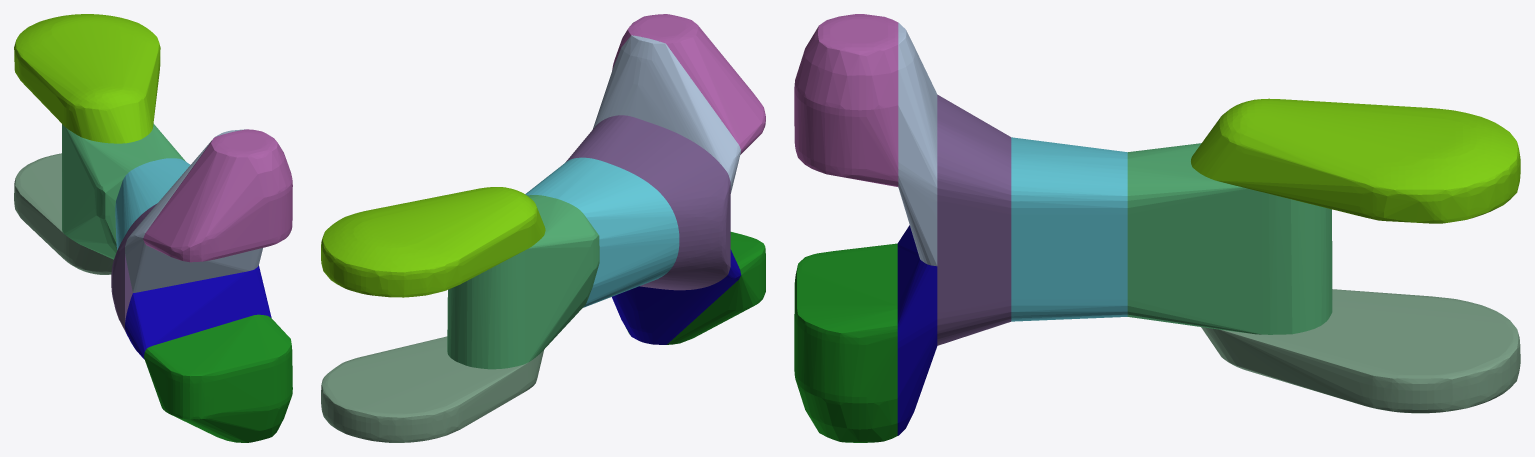
The model's file is torso_l3.obj.
The picture shows the model from 3 angles, left to right: view 1: azimuth 30°, elevation 25°; view 2: azimuth 150°, elevation 25°; view 3: azimuth 270°, elevation 25°; orthographic projection. The views are drawn at different scales.
Parts seen in each view (by area): view 1: geometry_4, geometry_8, geometry_7, geometry_3, geometry_5, geometry_0, geometry_6, geometry_2, geometry_1; view 2: geometry_4, geometry_3, geometry_0, geometry_1, geometry_2, geometry_6, geometry_7, geometry_5, geometry_8; view 3: geometry_4, geometry_3, geometry_0, geometry_2, geometry_8, geometry_1, geometry_7, geometry_6, geometry_5.
Boxes of the visible parts, x1=… form: geometry_4: x1=14, y1=14, x2=160, y2=143; geometry_8: x1=144, y1=314, x2=292, y2=442; geometry_7: x1=143, y1=129, x2=292, y2=262; geometry_3: x1=62, y1=123, x2=185, y2=259; geometry_5: x1=125, y1=265, x2=271, y2=359; geometry_0: x1=14, y1=153, x2=113, y2=274; geometry_6: x1=125, y1=129, x2=262, y2=292; geometry_2: x1=115, y1=158, x2=190, y2=249; geometry_1: x1=111, y1=203, x2=157, y2=333; geometry_4: x1=321, y1=187, x2=545, y2=297; geometry_3: x1=447, y1=195, x2=599, y2=369; geometry_0: x1=321, y1=336, x2=543, y2=442; geometry_1: x1=565, y1=115, x2=730, y2=290; geometry_2: x1=525, y1=157, x2=679, y2=307; geometry_6: x1=592, y1=35, x2=740, y2=193; geometry_7: x1=612, y1=14, x2=765, y2=154; geometry_5: x1=612, y1=249, x2=741, y2=344; geometry_8: x1=626, y1=232, x2=765, y2=344; geometry_4: x1=1191, y1=98, x2=1520, y2=223; geometry_3: x1=1127, y1=143, x2=1332, y2=334; geometry_0: x1=1201, y1=289, x2=1520, y2=413; geometry_2: x1=1011, y1=137, x2=1127, y2=321; geometry_8: x1=794, y1=243, x2=897, y2=442; geometry_1: x1=937, y1=94, x2=1011, y2=345; geometry_7: x1=794, y1=14, x2=898, y2=186; geometry_6: x1=898, y1=22, x2=937, y2=266; geometry_5: x1=897, y1=225, x2=937, y2=435.
Bounding box in the file's own units: 0.2594 × 0.3472 × 0.578.
